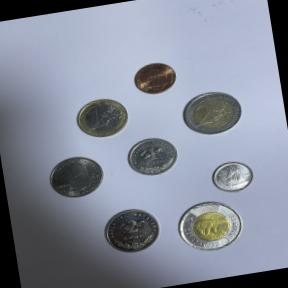1 Euro: (71, 92, 133, 143)
2 Euro: (176, 84, 250, 144)
Canda-10cent-: (207, 155, 258, 196)
Canda-2Dollar-: (171, 193, 249, 258)
Croatia-2Kune-: (97, 202, 168, 260)
US-1cent-: (130, 57, 182, 100)
US-25cent-: (42, 148, 110, 204)
